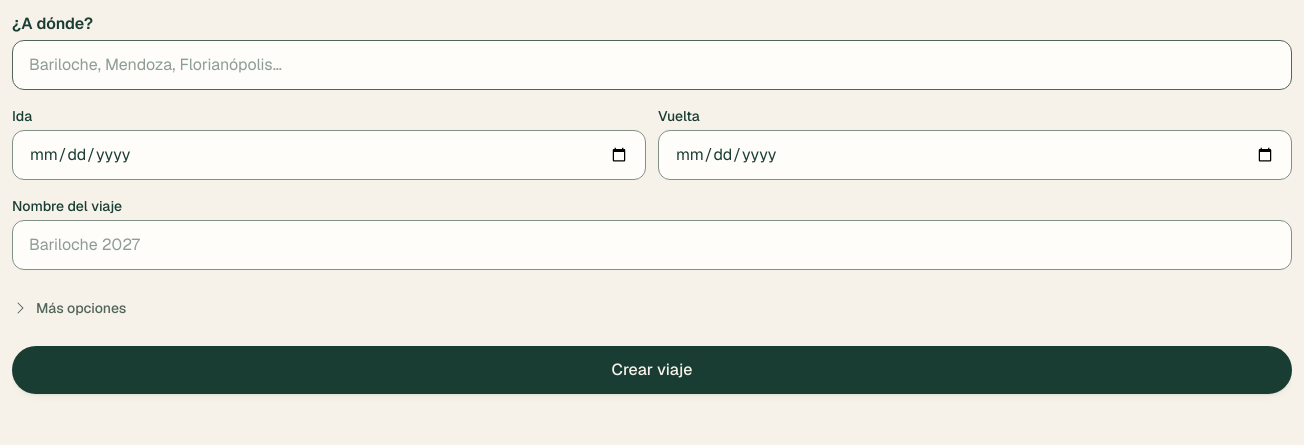
Test case: CreateTripForm › rejects an end date before the start date
Type "Bariloche" into the field labelled "Nombre del viaje".
click(652, 245); type("Bariloche")  # box [12,220,1292,270]
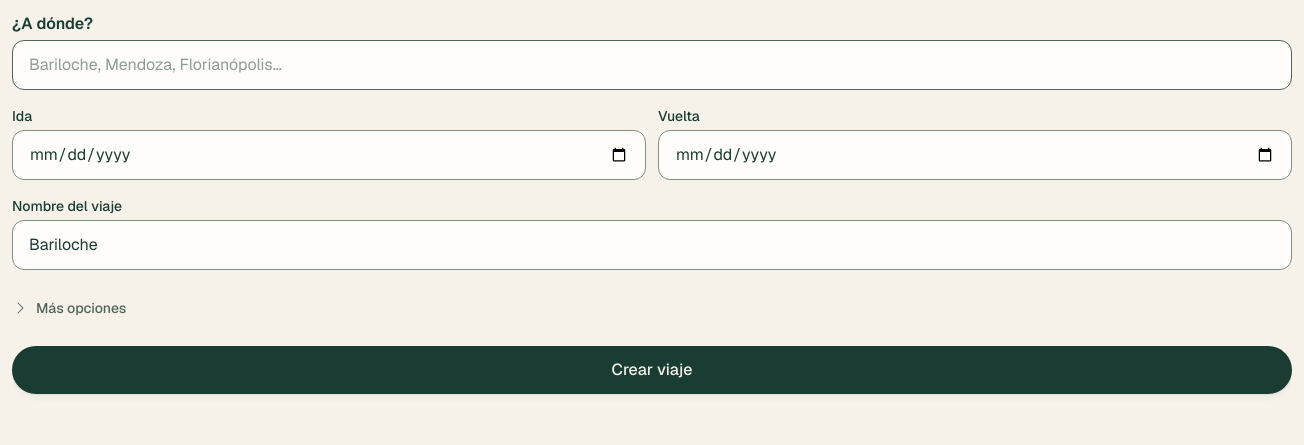
Type "2027-07-08" into the date field labelled "Ida".
click(329, 155); type("2027-07-08")  # box [12,130,646,180]
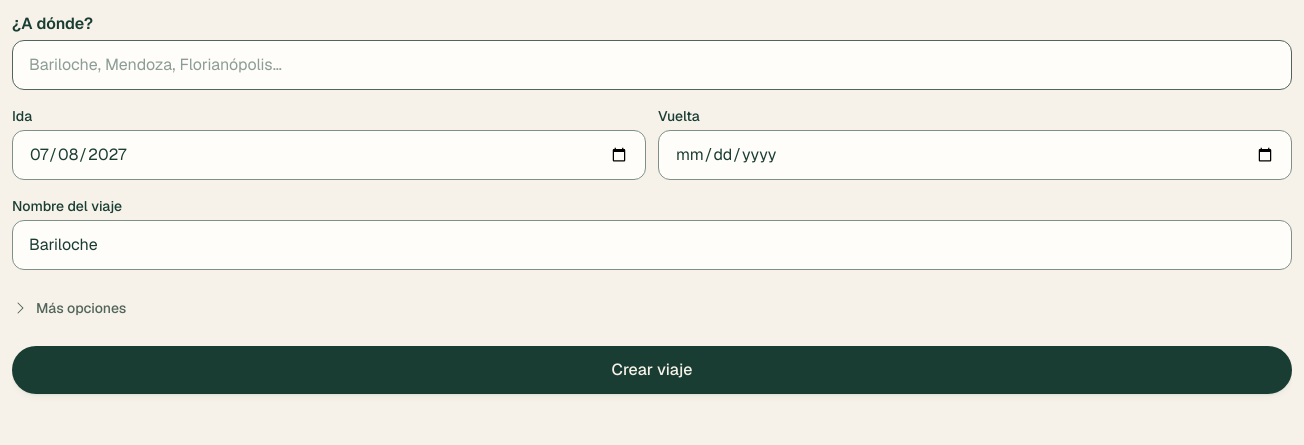
Type "2027-07-01" into the date field labelled "Vuelta".
click(975, 155); type("2027-07-01")  # box [658,130,1292,180]
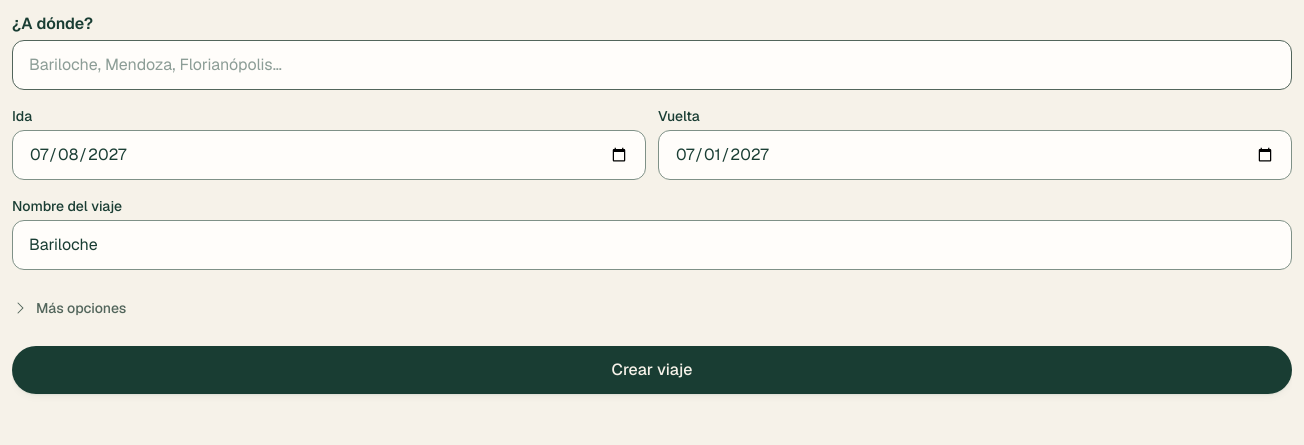
Click the button "Crear viaje".
click(652, 370)  # box [12,346,1292,394]
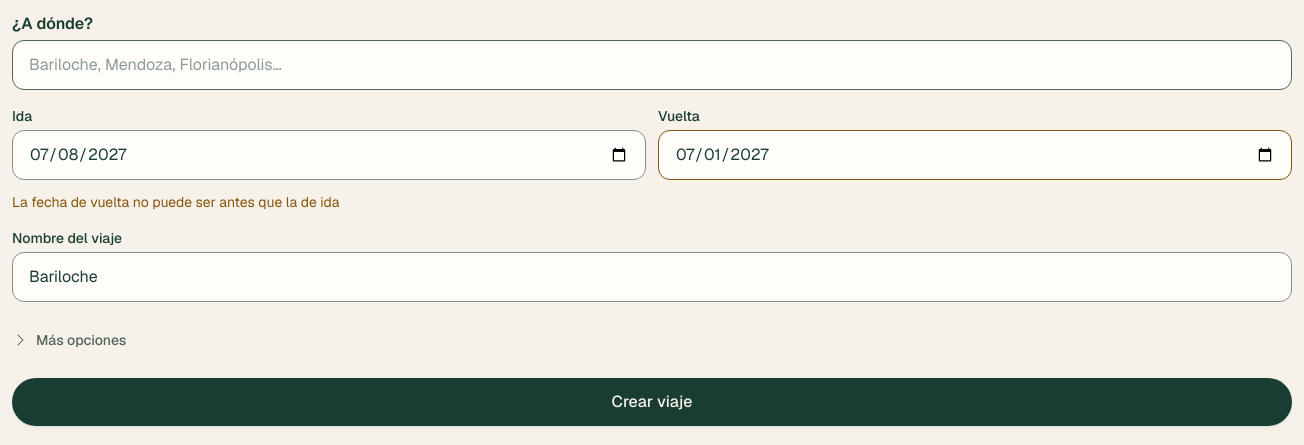
Expected: the text "La fecha de vuelta no puede ser antes que la de ida" is shown, [12,193,340,211]
